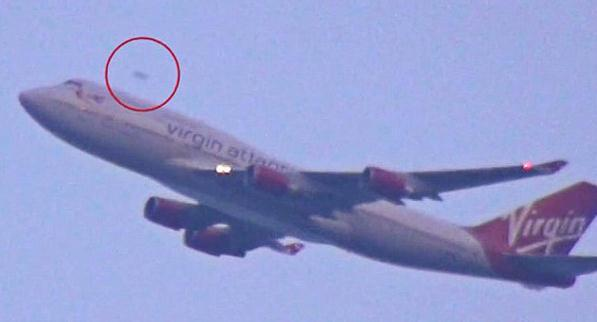airplane: (15, 58, 597, 291)
